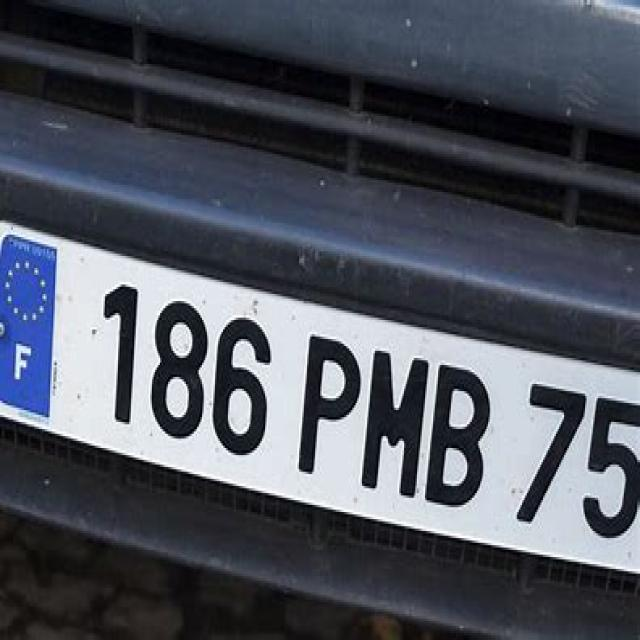Plaque: (0, 277, 640, 568)
